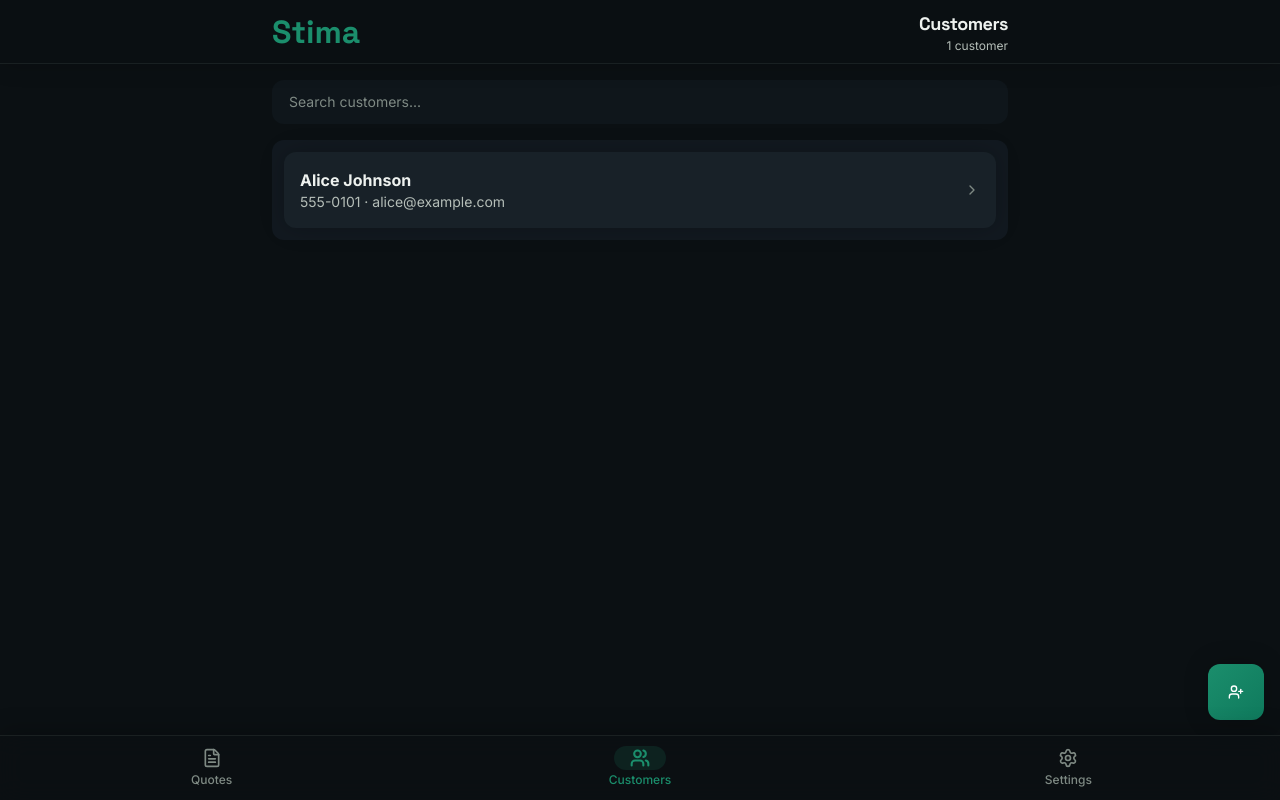
Scenario: CustomerListScreen › renders the search-empty icon with the compact token size
Expected: the text "Alice Johnson" is shown, left=300, top=170, right=411, bottom=190
Type "zzz" into the field labelled "Search customers" at x=640, y=102, box left=289, top=92, right=991, bottom=112
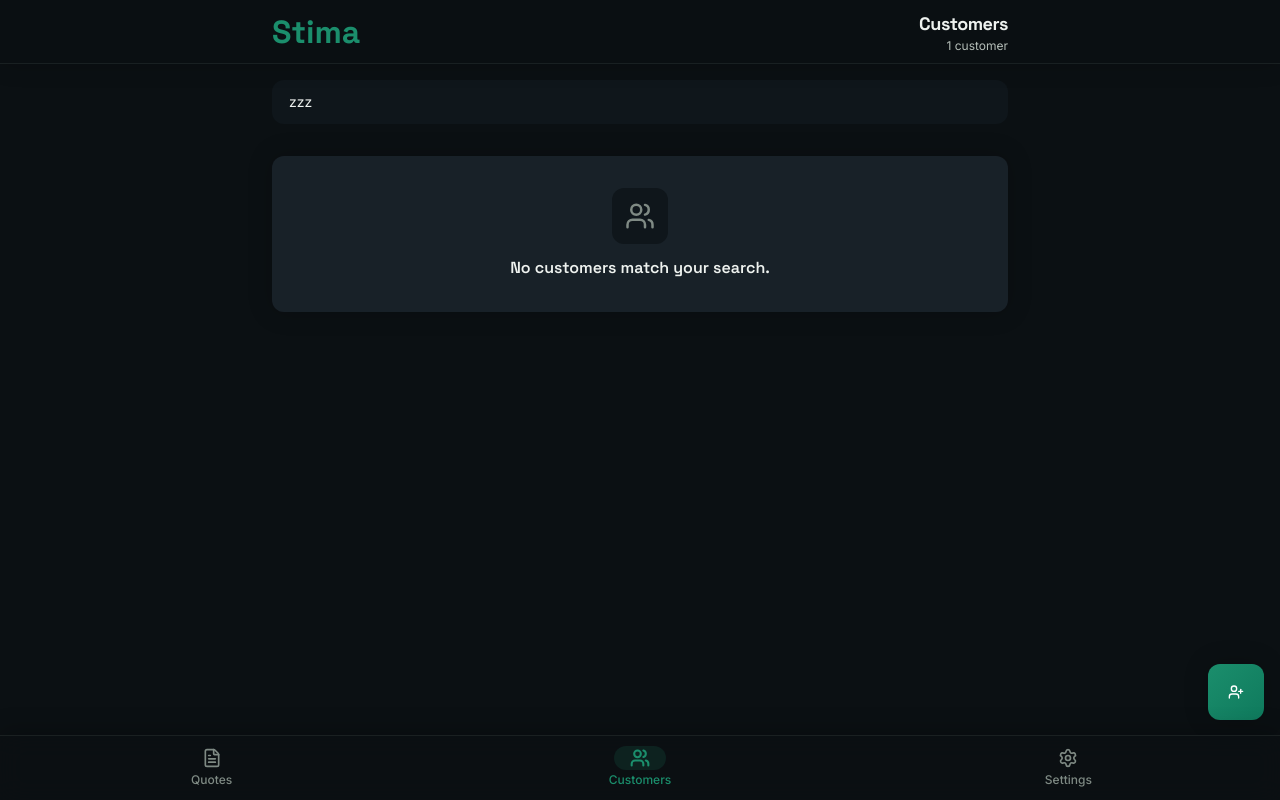
Expected: the 1st icon is shown, left=625, top=201, right=655, bottom=231
Expected: the heading "No customers match your search." is shown, left=510, top=256, right=770, bottom=280
